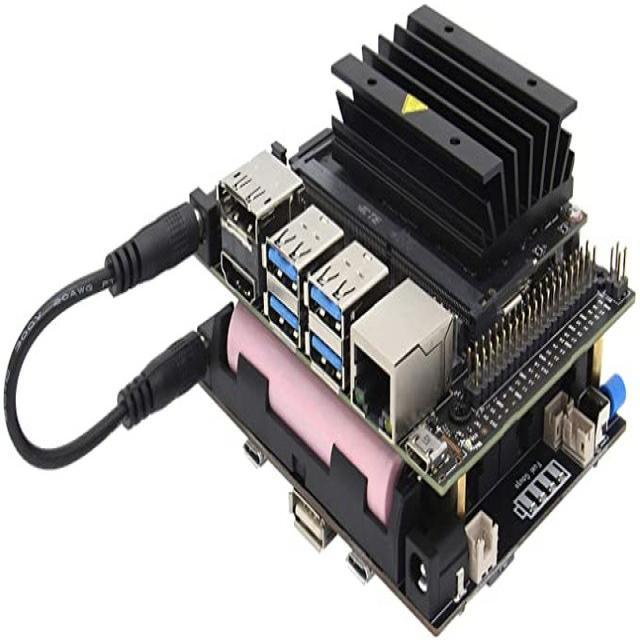Jetson Nano: (189, 4, 639, 495)
